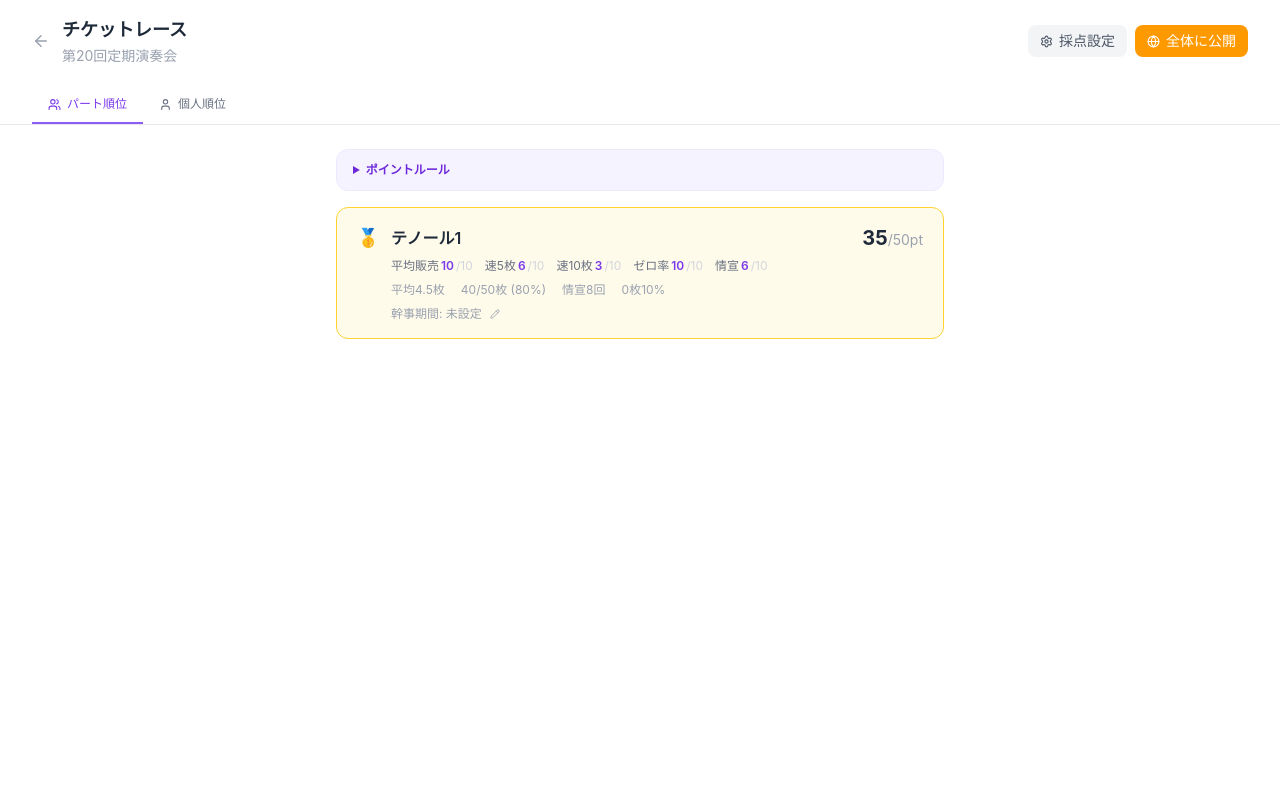
Test: RacePage（公開操作の失敗） › 公開に失敗したらエラーを表示し、未公開のままにする
Click the button "全体に公開".
click(1192, 41)  # box [1135, 25, 1248, 57]
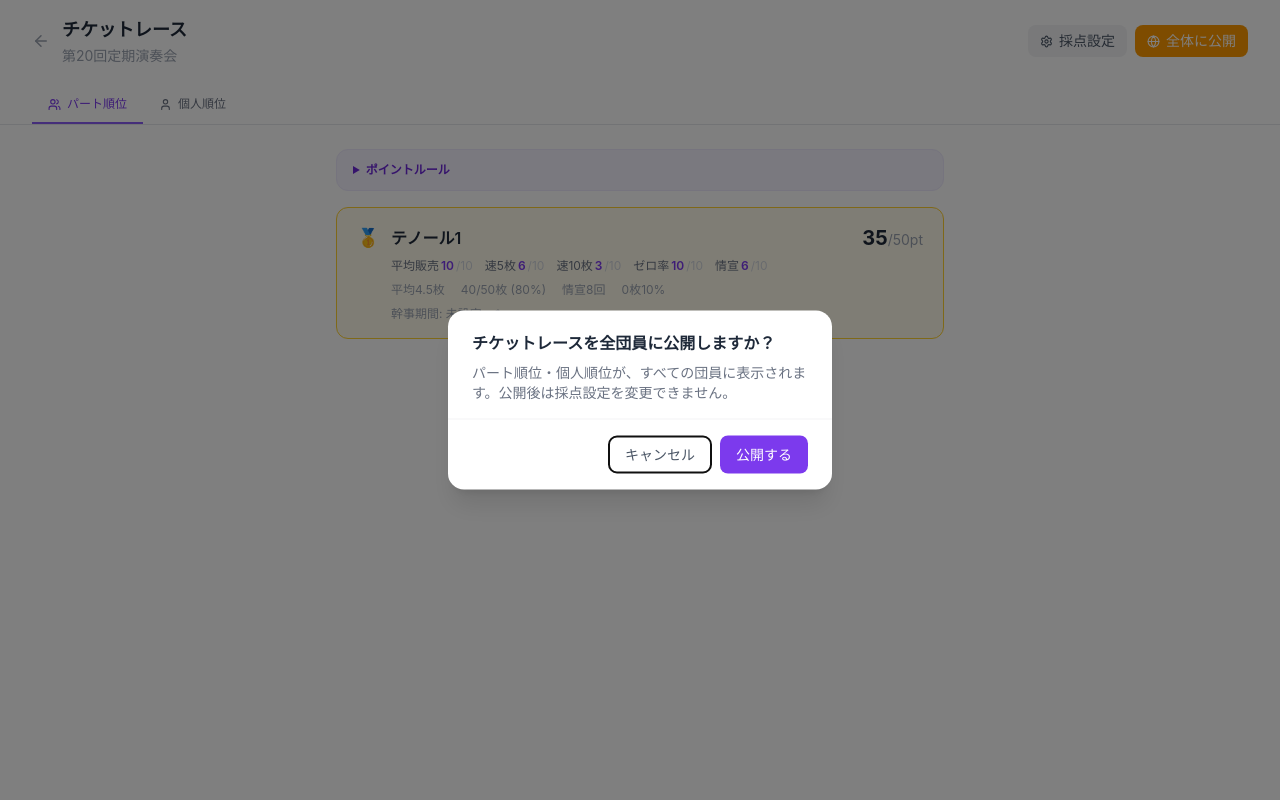
Click the button "公開する".
click(764, 454)  # box [720, 436, 808, 474]
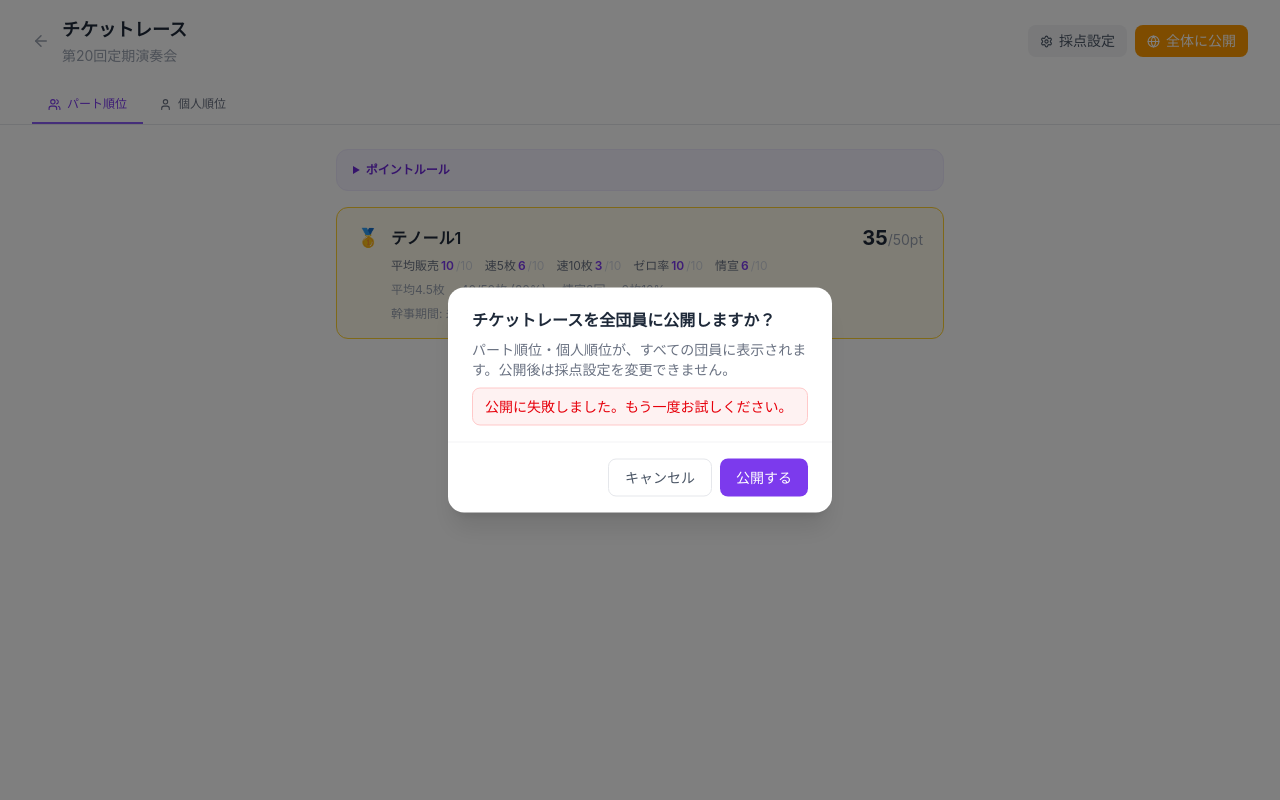
Expected: the button "全体に公開" is shown, [1135, 25, 1248, 57]
Expected: the button "公開する" is enabled, [720, 458, 808, 496]
Expected: the message reads "公開に失敗しました。もう一度お試しください。", [485, 398, 793, 414]
